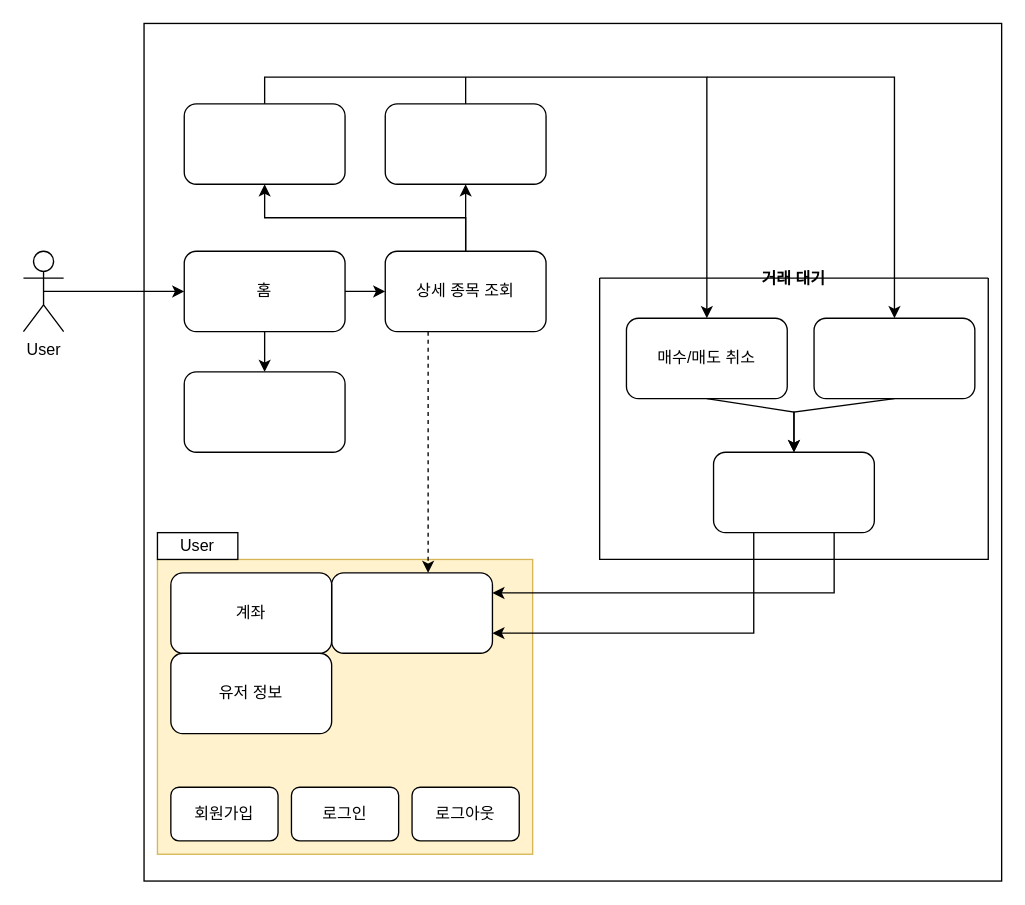
Image size: 1025x905. Some labels were removed from this diagram. The centre of each missing label's shape, as x and y in pixels:
"매도" goes at pixel 465 143.
"매매 완료" goes at pixel 793 492.
"매매 정정" goes at pixel 894 358.
"매수" goes at pixel 264 143.
"보유 종목 조회" goes at pixel 411 612.
"상위 랭킹 종목" goes at pixel 264 411.
